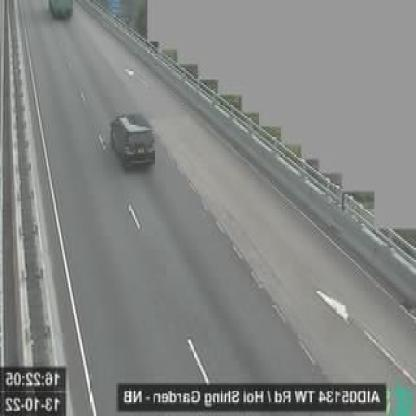Car: (110, 112, 158, 172)
